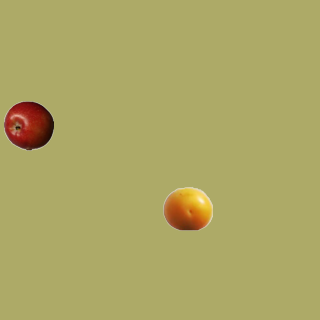Apple Braeburn: (3, 100, 53, 150)
Cherry Wax Yellow: (162, 183, 212, 233)
